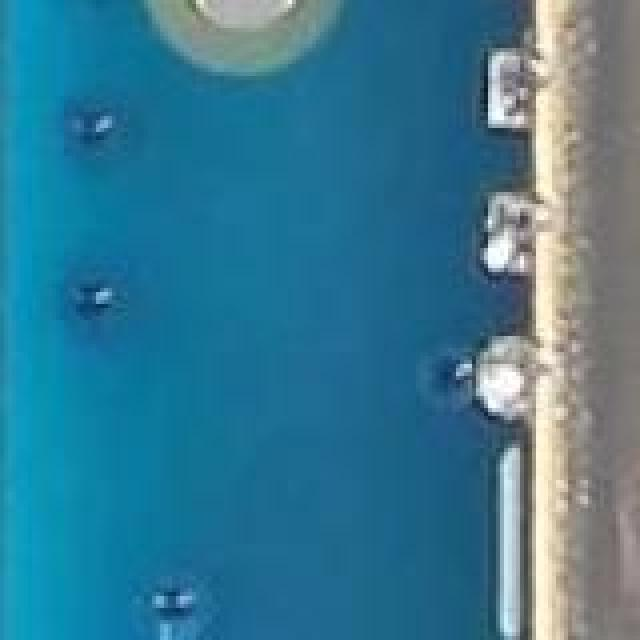IC: (512, 0, 640, 640)
